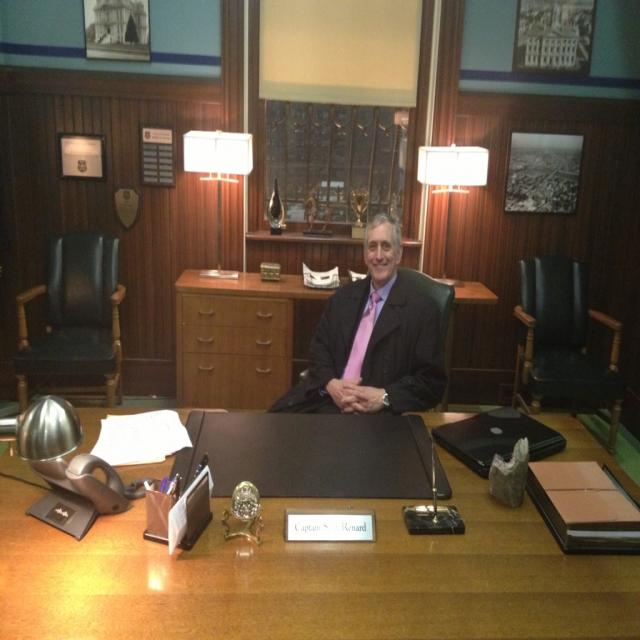chair: (512, 256, 626, 452), (14, 233, 124, 409)
desk: (0, 409, 639, 639)
laptop: (432, 408, 568, 479)
person: (267, 212, 451, 418)
